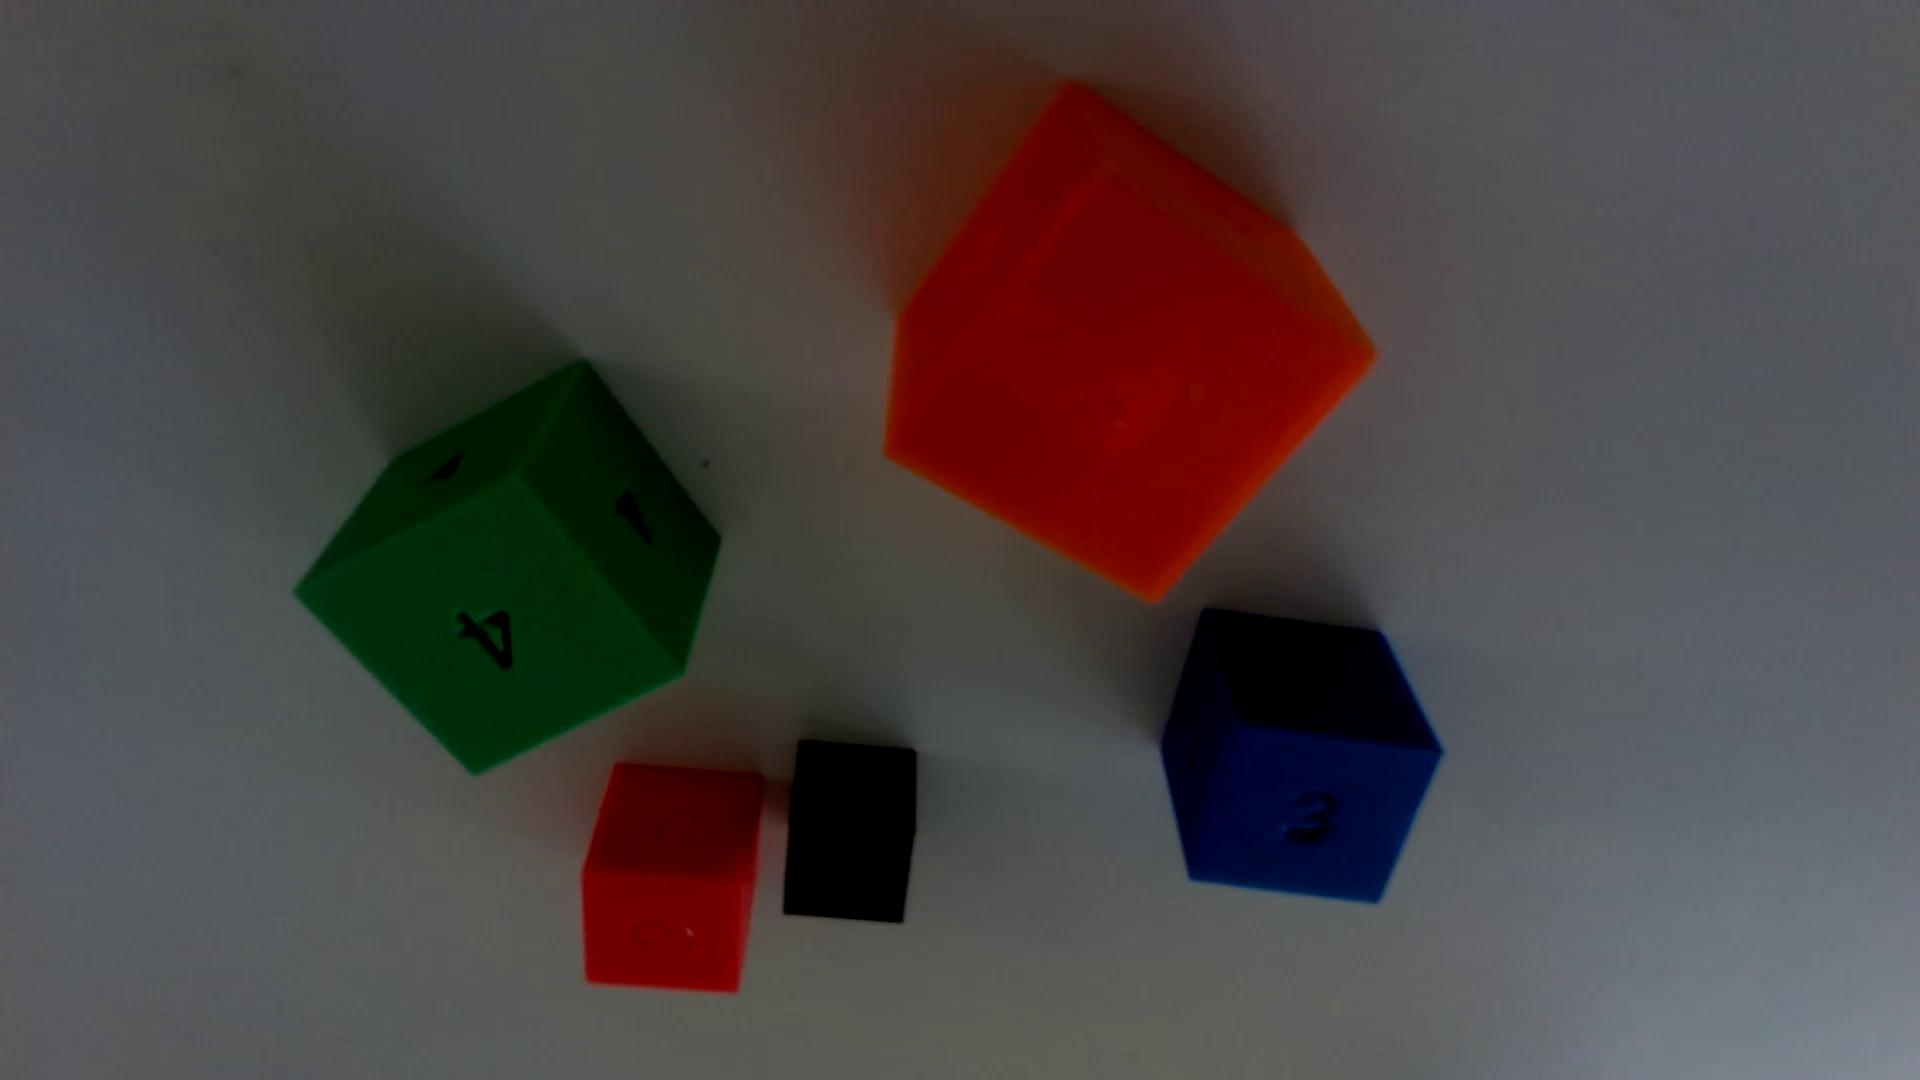black: (783, 738, 918, 923)
blue: (1160, 609, 1443, 902)
green: (298, 363, 721, 771)
orange: (885, 86, 1375, 599)
red: (582, 764, 764, 992)
